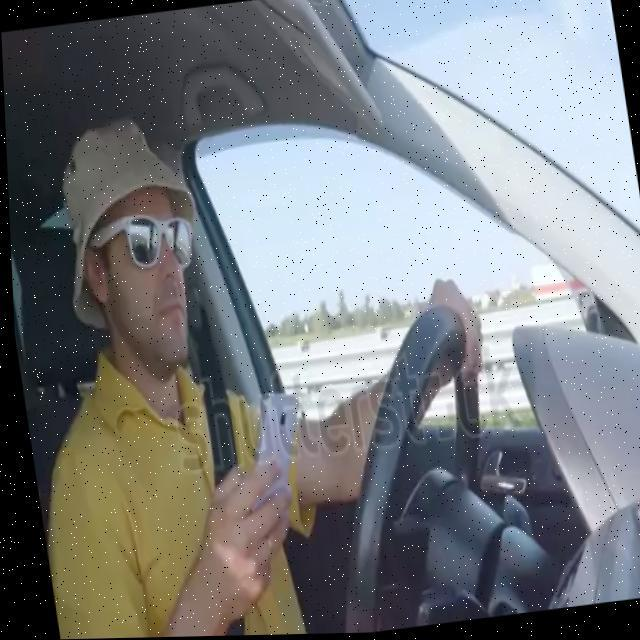PhoneCall: (231, 390, 310, 524)
